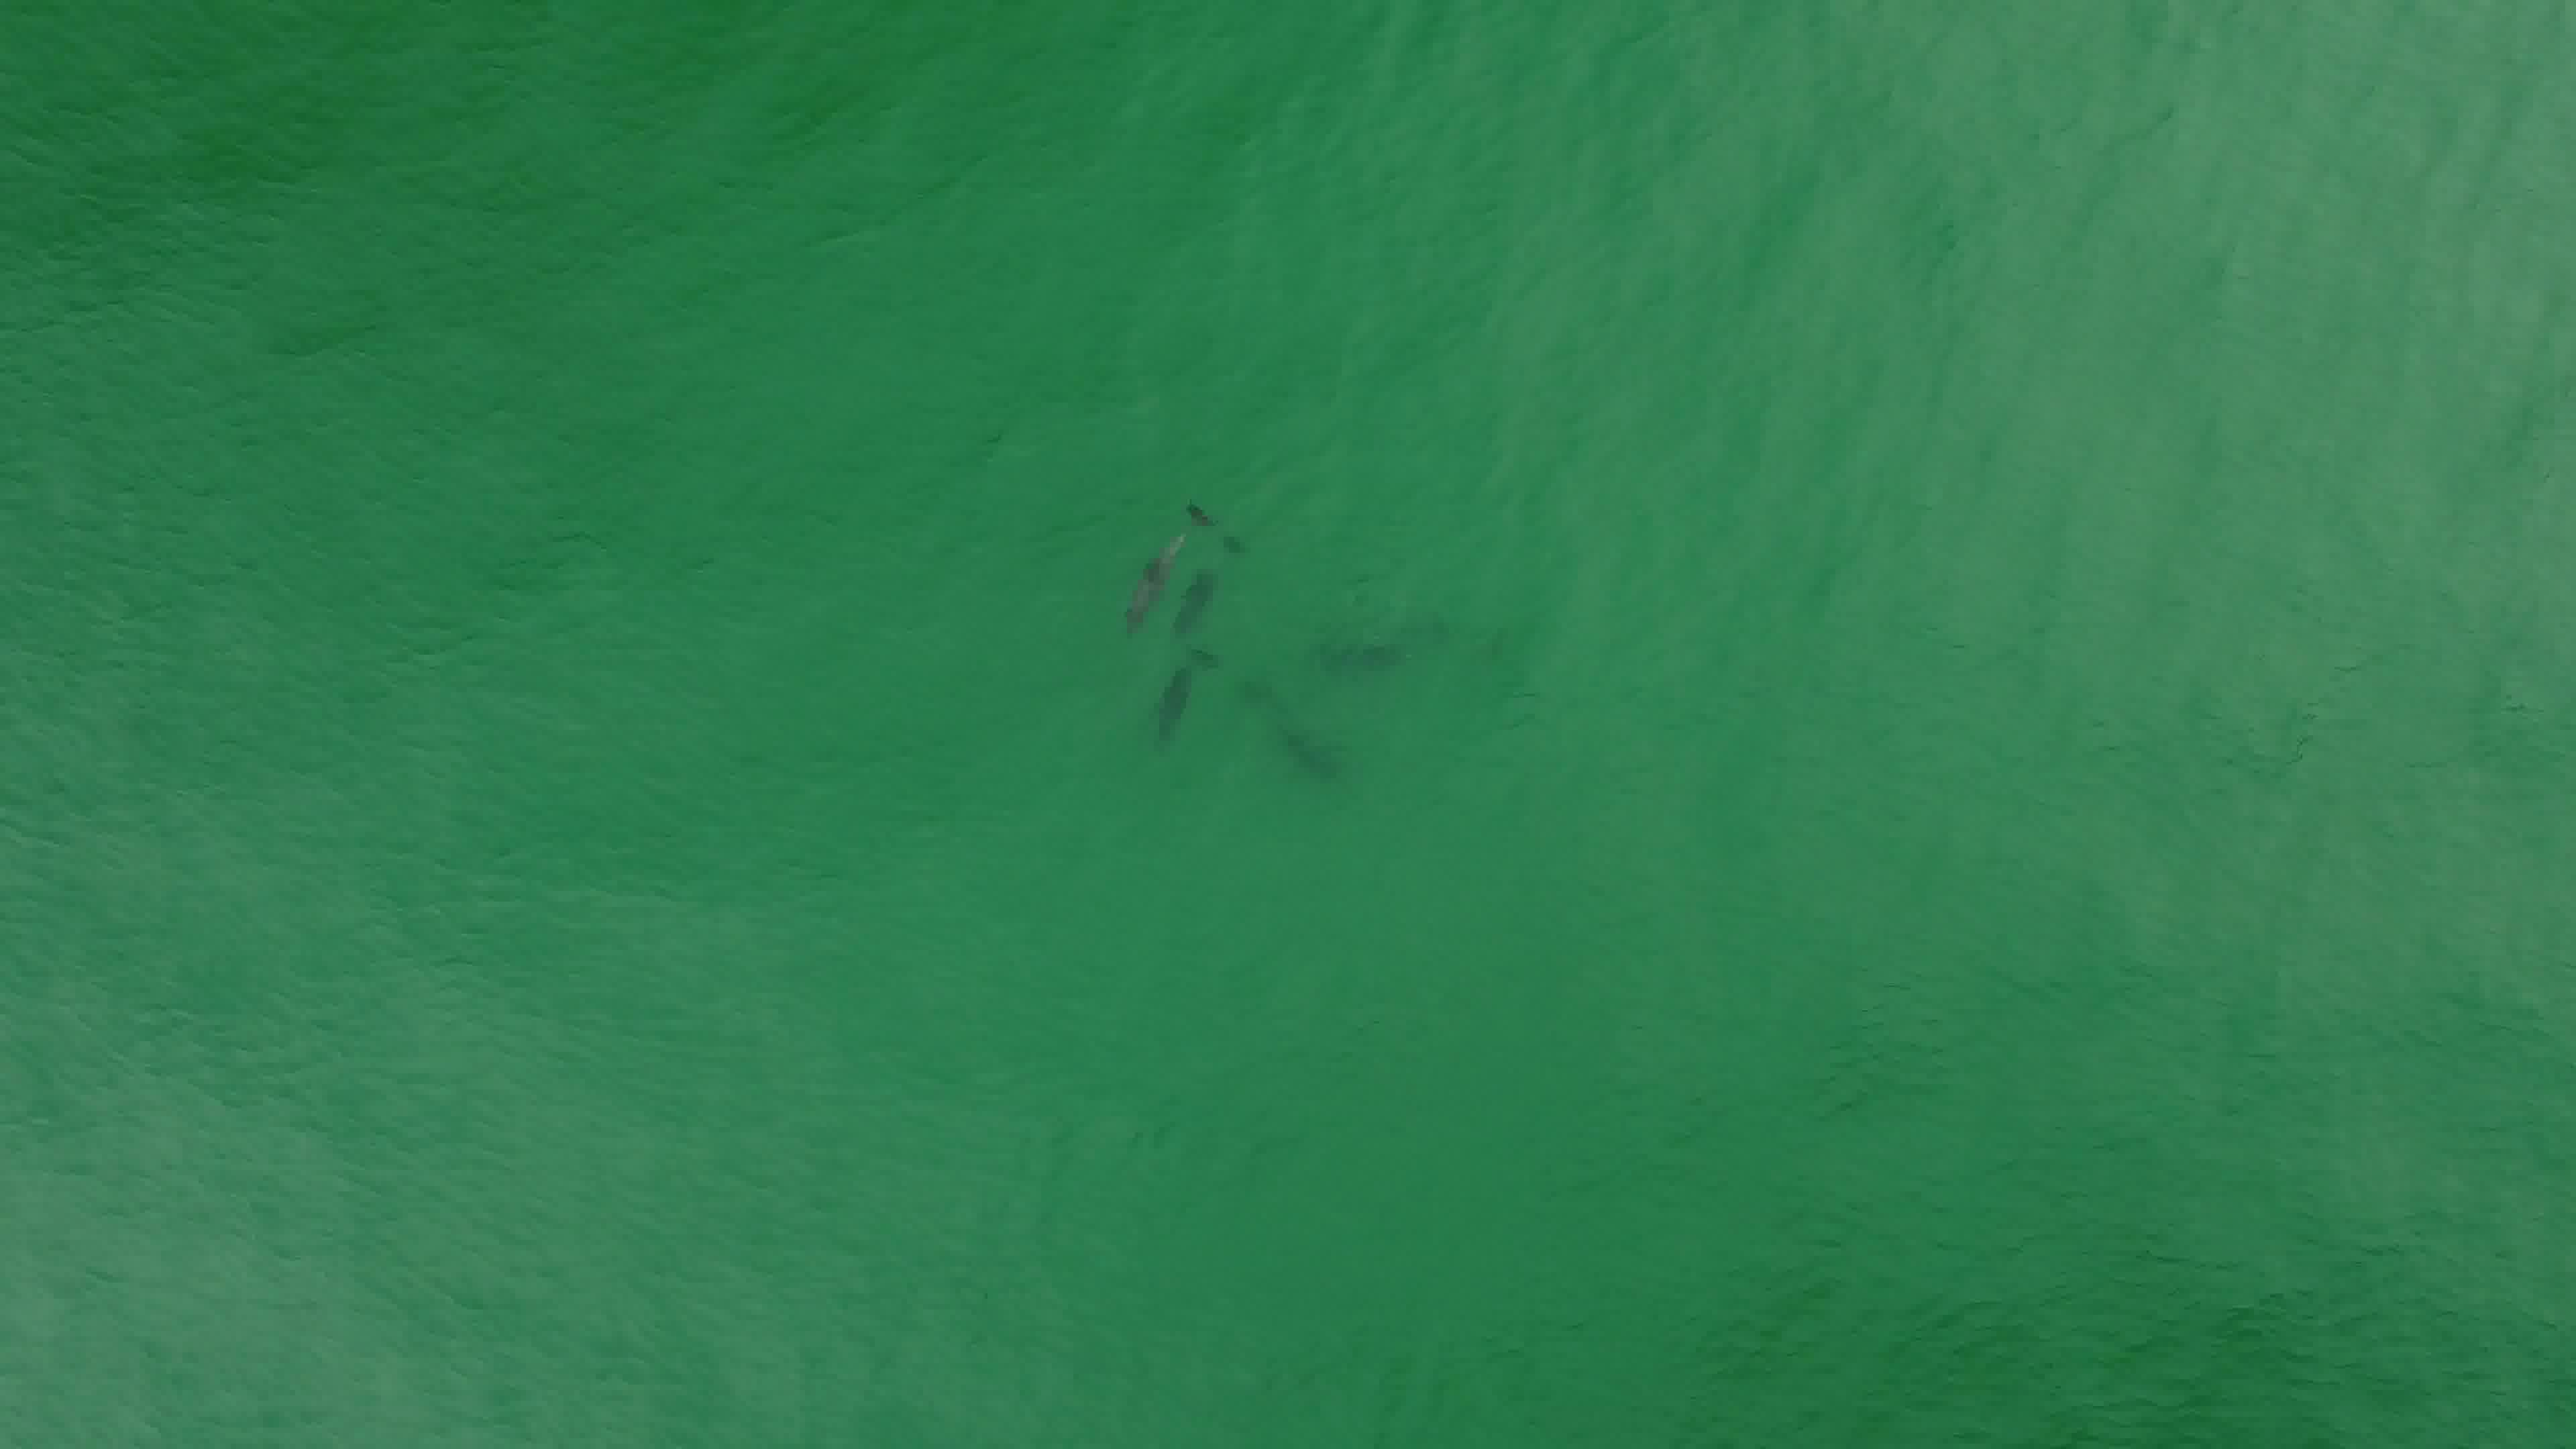dolphin: (1054, 460, 1254, 674)
